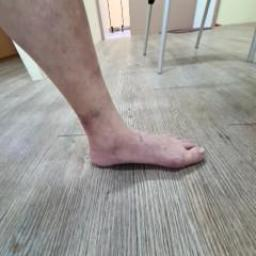Medial View -Left Foot-: (67, 104, 225, 182)
